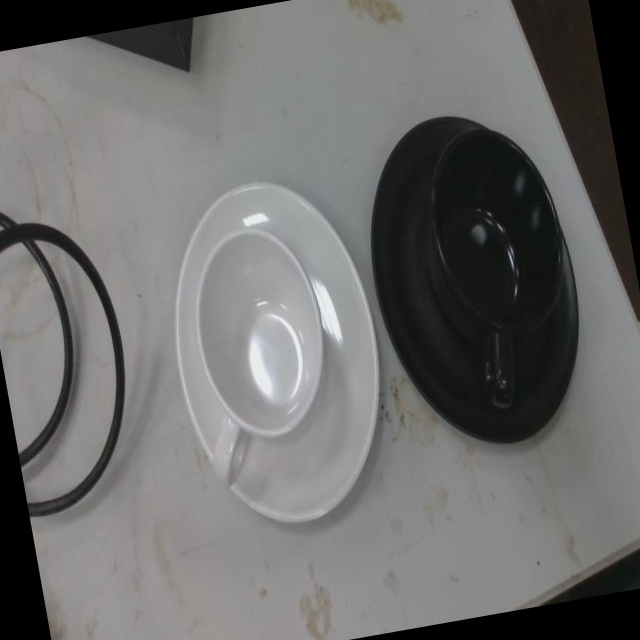black: (374, 111, 578, 453)
white: (175, 173, 380, 532)
